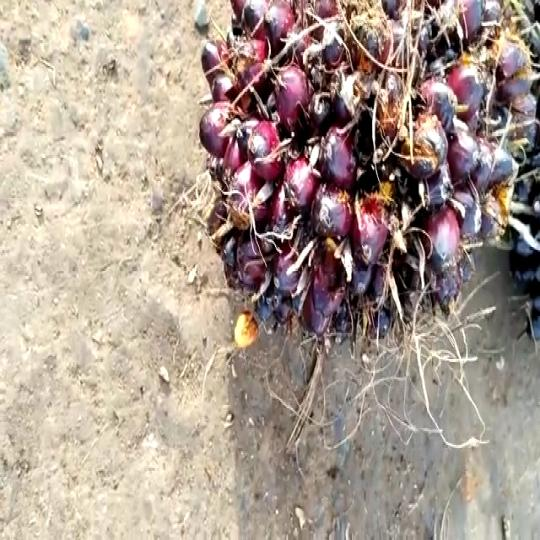kurang masak: (193, 0, 534, 354)
